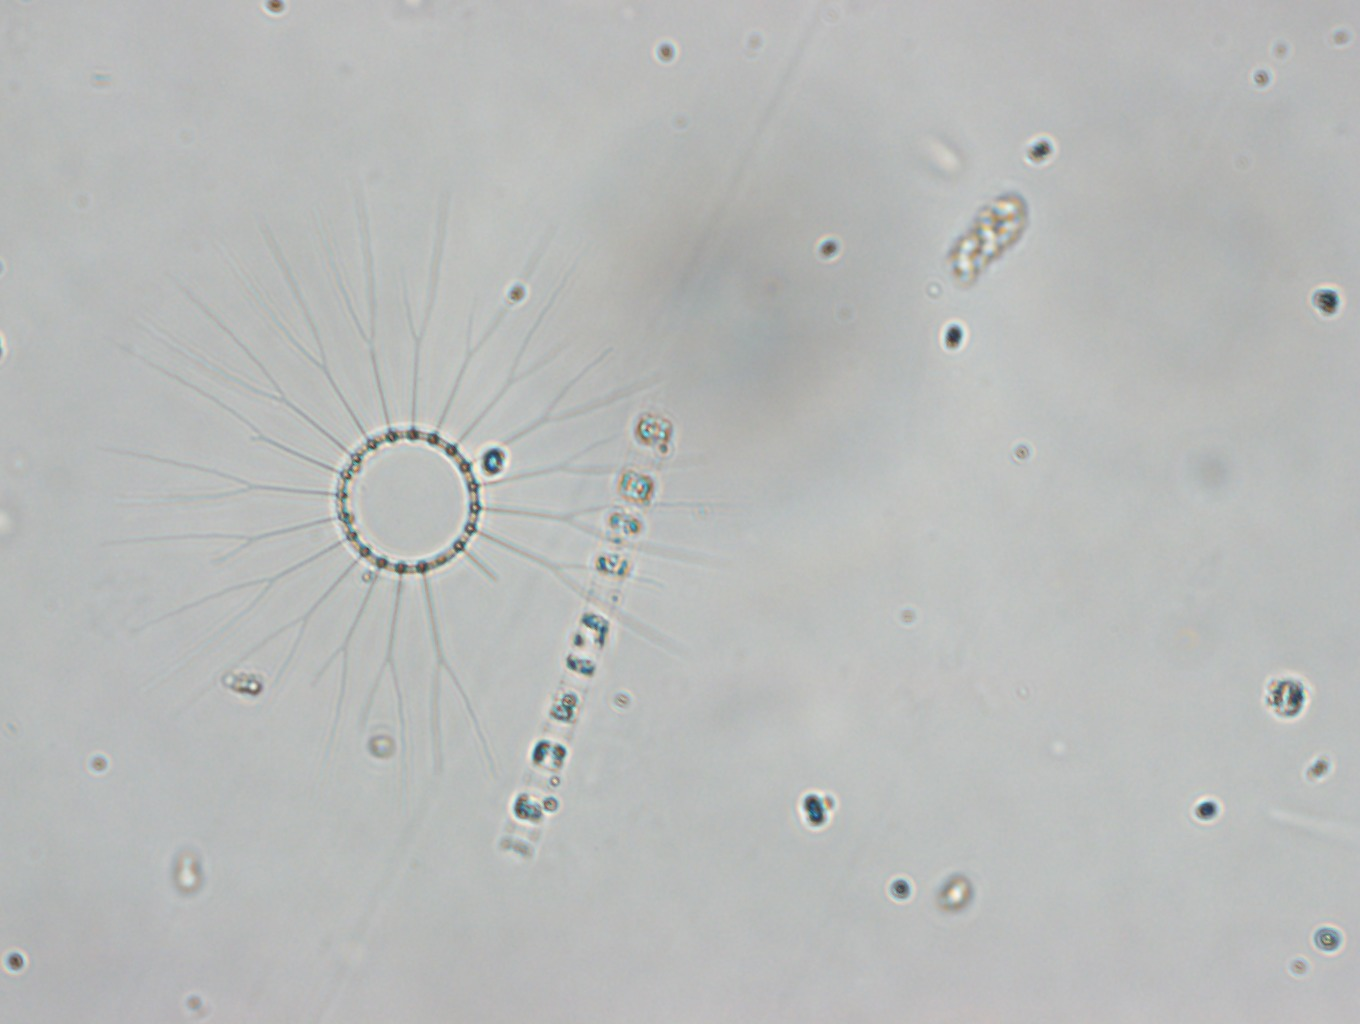bacteriastrum: (135, 202, 682, 725)
skeletonema: (503, 403, 673, 862)
